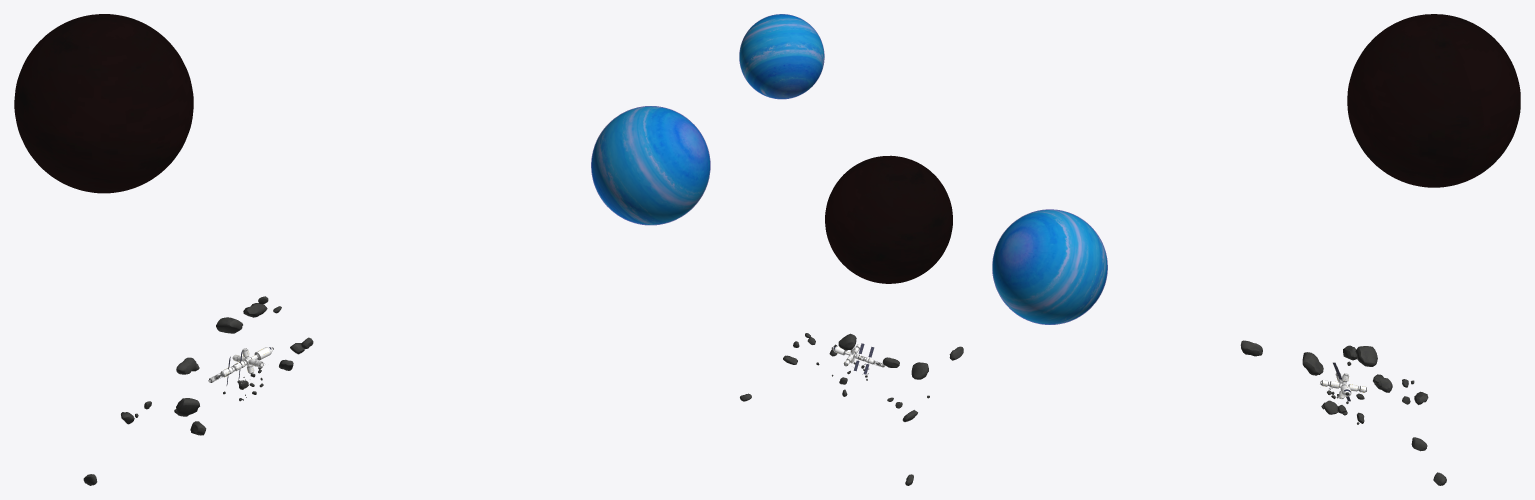
Rendered from craftplanet2.glb.
The picture shows the model from 3 angles, left to right: view 1: azimuth 30°, elevation 25°; view 2: azimuth 150°, elevation 25°; view 3: azimuth 270°, elevation 25°; orthographic projection. The views are drawn at different scales.
Visible parts, largest first — view 1: defaultMaterial, Object_6, Object_4, polySurface14371_phong4_0, polySurface14371_FinalTexture_0; view 2: defaultMaterial, Object_6, Object_4, polySurface14371_phong4_0, polySurface14371_FinalTexture_0; view 3: defaultMaterial, Object_6, Object_4, polySurface14371_phong4_0, polySurface14371_FinalTexture_0.
Boxes of the visible parts, bbox=[...] form: defaultMaterial: bbox=[14, 14, 193, 193]; Object_6: bbox=[591, 106, 710, 225]; Object_4: bbox=[591, 106, 709, 224]; polySurface14371_phong4_0: bbox=[83, 296, 313, 485]; polySurface14371_FinalTexture_0: bbox=[208, 347, 273, 385]; defaultMaterial: bbox=[825, 155, 952, 283]; Object_6: bbox=[739, 14, 824, 99]; Object_4: bbox=[739, 14, 824, 98]; polySurface14371_phong4_0: bbox=[740, 333, 963, 485]; polySurface14371_FinalTexture_0: bbox=[831, 343, 885, 374]; defaultMaterial: bbox=[1347, 14, 1520, 187]; Object_6: bbox=[992, 209, 1107, 324]; Object_4: bbox=[992, 210, 1107, 324]; polySurface14371_phong4_0: bbox=[1240, 340, 1446, 485]; polySurface14371_FinalTexture_0: bbox=[1319, 362, 1367, 401].
Bounding box in the file's own units: 553 × 501 × 548.
9 materials, 7 textured.
